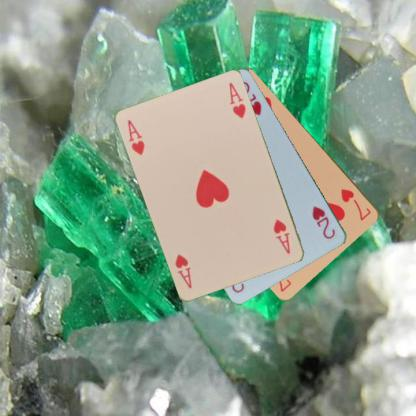2h: (310, 203, 337, 241)
7h: (338, 185, 372, 222)
Ah: (126, 117, 146, 157), (271, 217, 292, 255)
